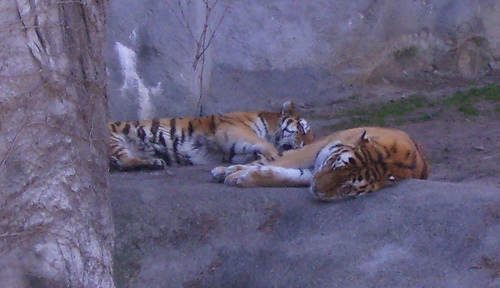Tigre: (108, 100, 300, 180), (303, 133, 444, 213)
